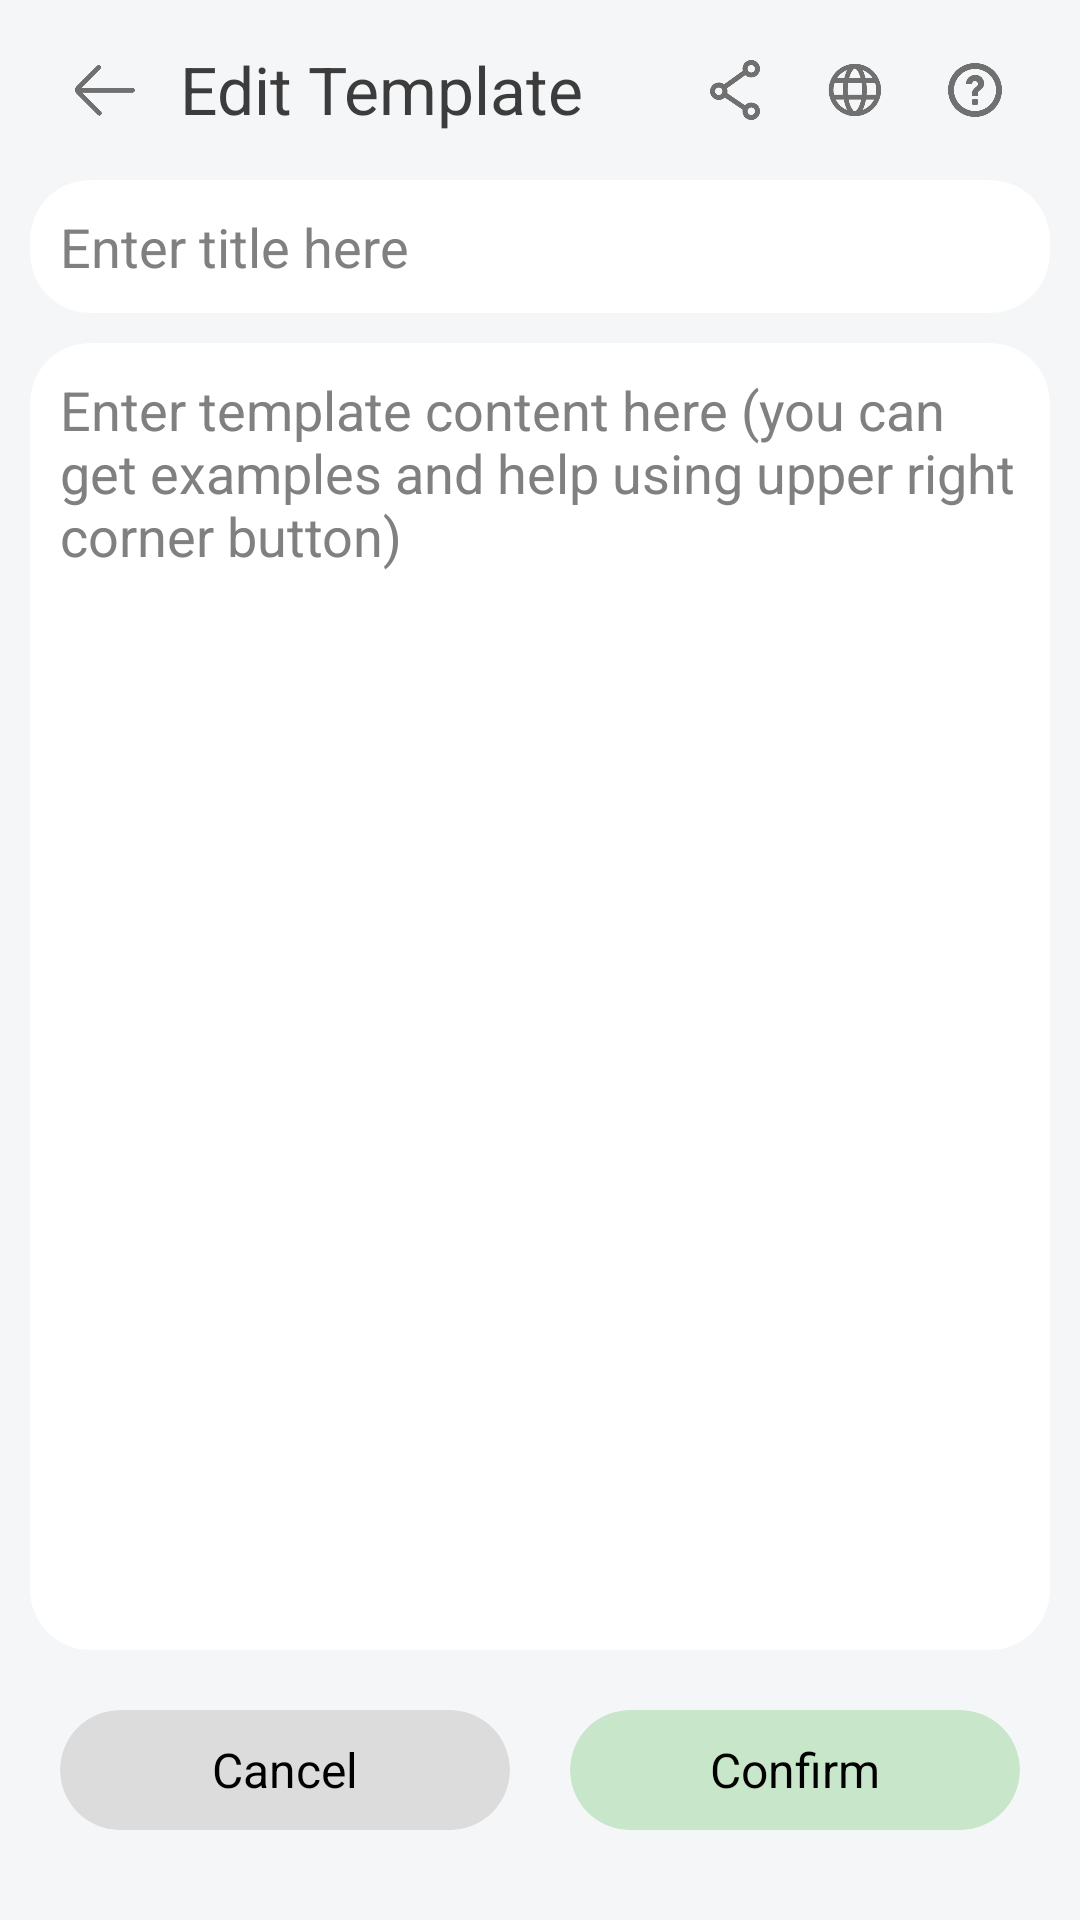

Point at icon controls on the screen. Image size 1080 × 1920, points as (x=x, y=y).
back: (x=105, y=90)
help: (x=975, y=90)
online: (x=855, y=90)
share: (x=735, y=90)
